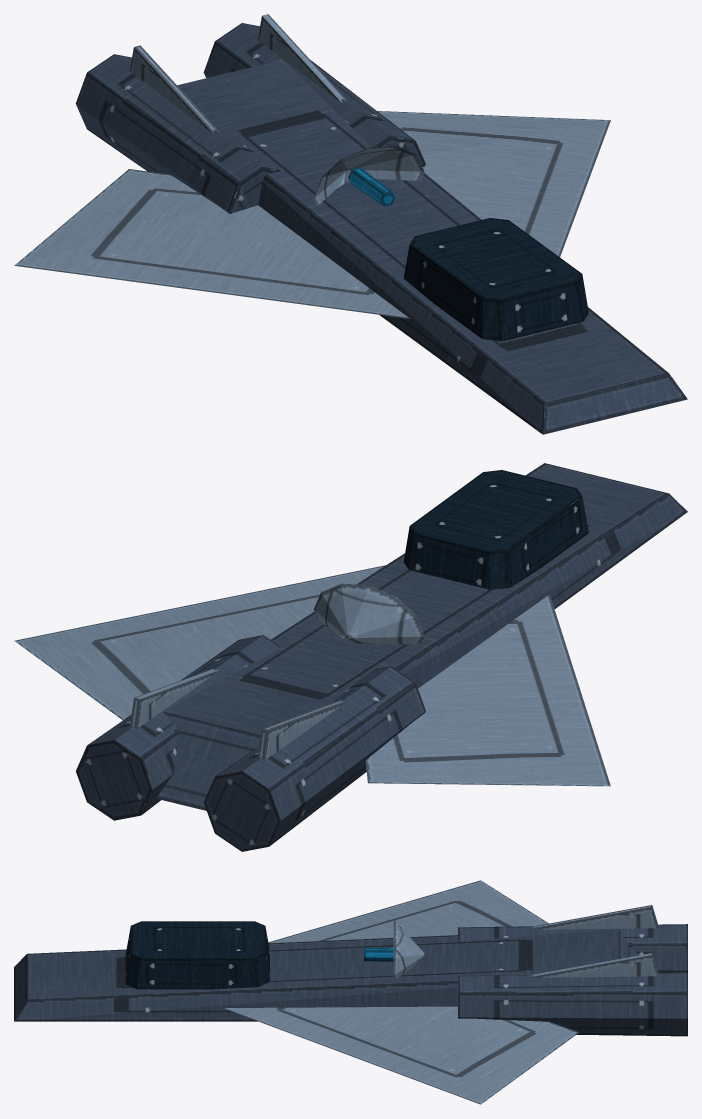
File: unit-recon_air.fbx
3 renders of one model, top to bottom at view 1: azimuth 30°, elevation 25°; view 2: azimuth 150°, elevation 25°; view 3: azimuth 270°, elevation 25°, orthographic. The views are drawn at different scales.
Parts seen in each view (by area): view 1: unit-recon_air; view 2: unit-recon_air; view 3: unit-recon_air.
Boxes of the visible parts, x1,y1,x2,y2 form: unit-recon_air: [14, 14, 687, 434]; unit-recon_air: [14, 463, 687, 851]; unit-recon_air: [14, 880, 687, 1104].
Bounding box in the file's own units: 788 × 140 × 999.
Materials: 1 (1 with a texture image).
